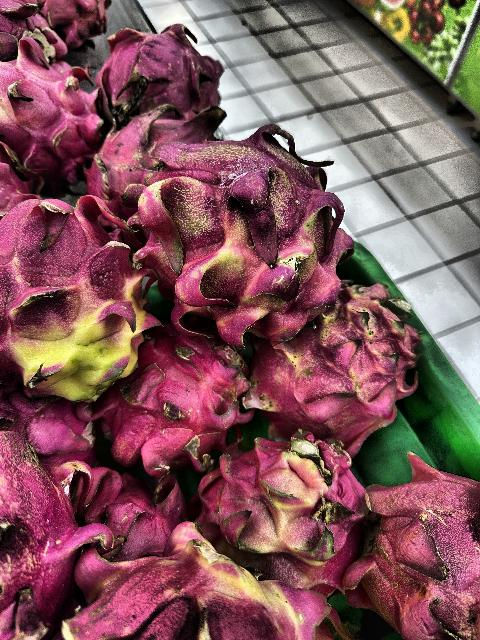buah-naga-belum-matang: (138, 123, 338, 334), (0, 183, 158, 401), (66, 532, 332, 640), (209, 426, 371, 586), (257, 288, 416, 442)
buah-naga-matang: (358, 442, 480, 640), (0, 416, 88, 640), (107, 332, 251, 463), (0, 34, 102, 174), (95, 28, 225, 118), (87, 106, 238, 182), (76, 462, 174, 552), (0, 388, 96, 460), (0, 1, 68, 64)
